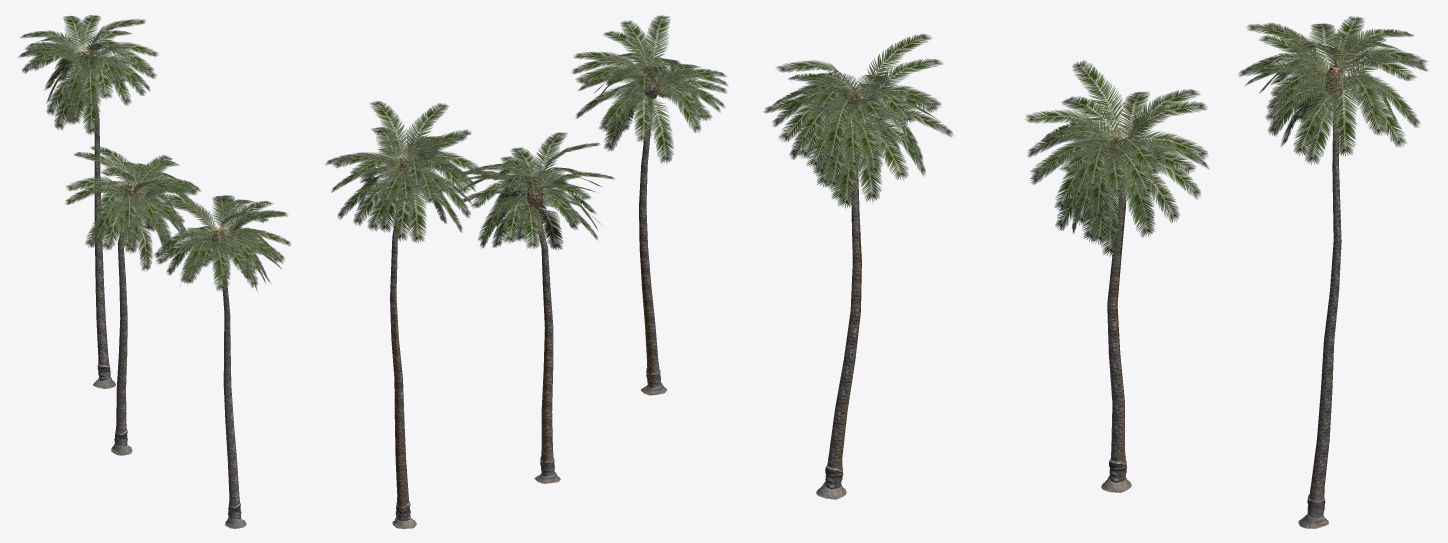
Rendered from palm_tree_pack_lowpoly.glb.
The picture shows the model from 3 angles, left to right: view 1: azimuth 30°, elevation 25°; view 2: azimuth 150°, elevation 25°; view 3: azimuth 270°, elevation 25°; orthographic projection. The views are drawn at different scales.
Visible parts, largest first — view 1: PALMLOW3, PALMLOW2, PALMLOW; view 2: PALMLOW3, PALMLOW, PALMLOW2; view 3: PALMLOW2, PALMLOW3, PALMLOW.
Part boxes in pixels (bbox=[...]): PALMLOW3: bbox=[18, 15, 158, 388]; PALMLOW2: bbox=[65, 145, 200, 455]; PALMLOW: bbox=[154, 193, 291, 528]; PALMLOW3: bbox=[325, 101, 482, 528]; PALMLOW: bbox=[571, 15, 728, 395]; PALMLOW2: bbox=[457, 132, 614, 483]; PALMLOW2: bbox=[1025, 60, 1209, 492]; PALMLOW3: bbox=[1238, 16, 1427, 528]; PALMLOW: bbox=[763, 33, 953, 499].
Bounding box in the file's own units: 5.22 × 11.08 × 13.68.
Materials: 3 (3 with a texture image).
